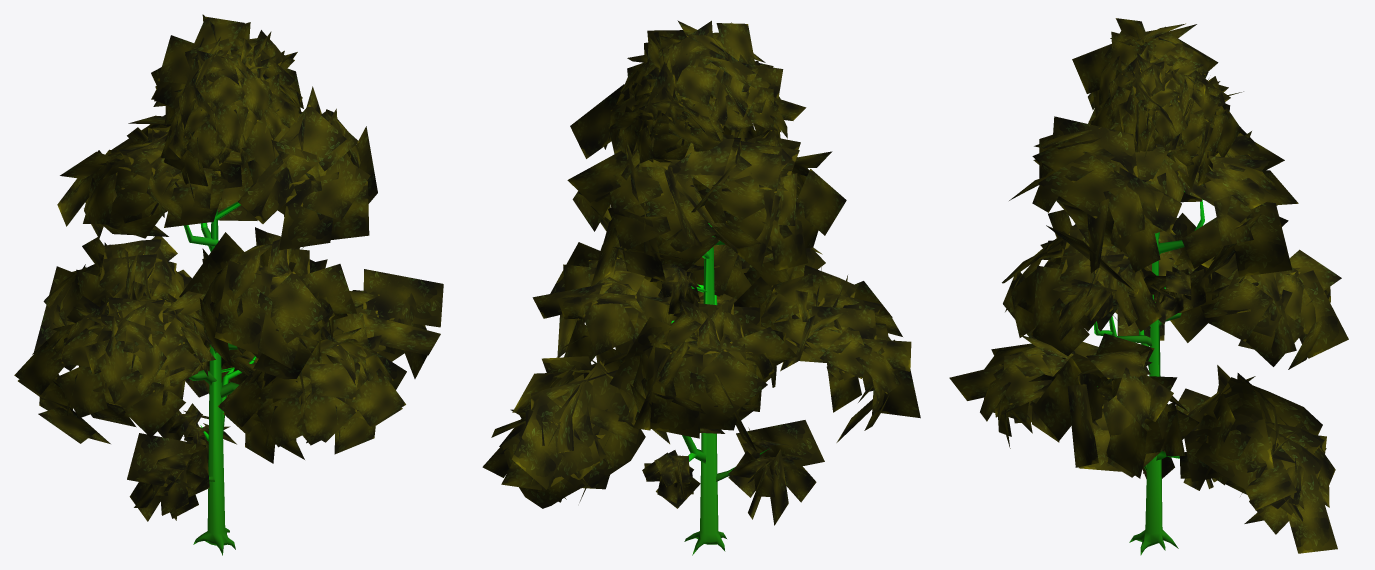
File: hvs_trees_leafy03_lod2.fbx
3 renders of one model, left to right at view 1: azimuth 30°, elevation 25°; view 2: azimuth 150°, elevation 25°; view 3: azimuth 270°, elevation 25°, orthographic.
Parts seen in each view (by area): view 1: hvs_trees_leafy03_lod2; view 2: hvs_trees_leafy03_lod2; view 3: hvs_trees_leafy03_lod2.
Boxes of the visible parts, box(x1,y1,x2,y2) form: hvs_trees_leafy03_lod2: box(14, 14, 443, 555); hvs_trees_leafy03_lod2: box(482, 20, 920, 555); hvs_trees_leafy03_lod2: box(949, 18, 1348, 555).
Bounding box in the file's own units: 99.95 × 130 × 91.05.
